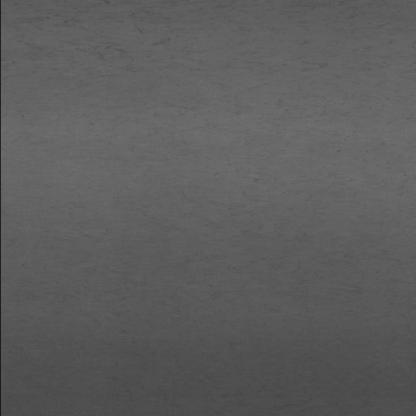silk_spot: (67, 21, 344, 118)
